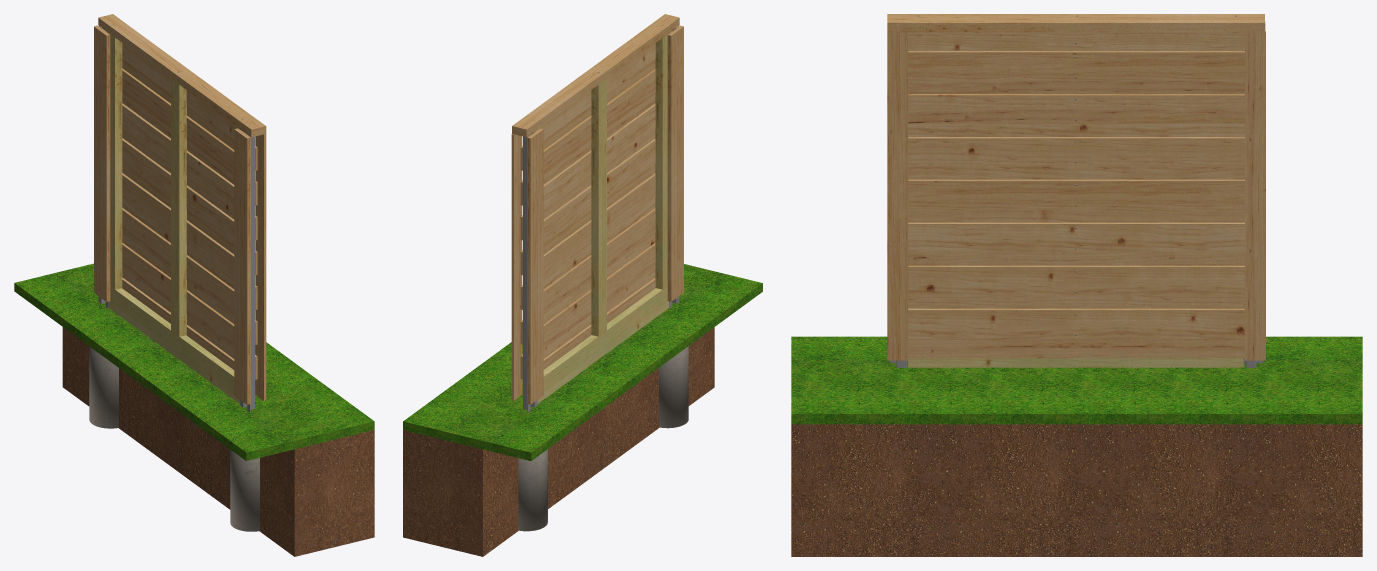
Rendered from wood-model-32.glb.
3 views of the same model, side by side, from view 1: azimuth 30°, elevation 25°; view 2: azimuth 150°, elevation 25°; view 3: azimuth 270°, elevation 25° (orthographic). The views are drawn at different scales.
Parts seen in each view (by area): view 1: Model32; view 2: Model32; view 3: Model32.
Part boxes in pixels (<box>): Model32: <box>14,14,374,556</box>; Model32: <box>403,14,762,556</box>; Model32: <box>791,14,1362,556</box>.
Bounding box in the file's own units: 0.8836 × 2.63 × 2.77.
Materials: 6 (5 with a texture image).
